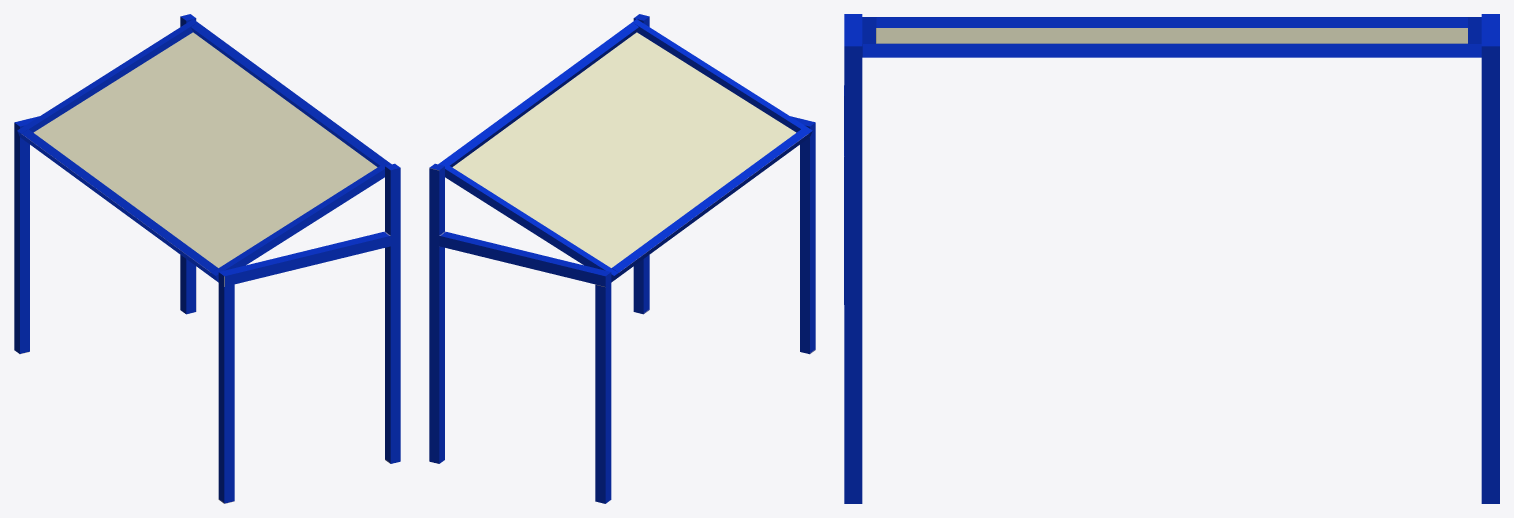
File: RAAL_op30.dae
3 views of the same model, side by side, from view 1: azimuth 30°, elevation 25°; view 2: azimuth 150°, elevation 25°; view 3: azimuth 270°, elevation 25° (orthographic). The views are drawn at different scales.
Parts seen in each view (by area): view 1: RAAL_op30; view 2: RAAL_op30; view 3: RAAL_op30.
Part boxes in pixels (x1,y1,x2,y2): RAAL_op30: (14, 14, 400, 503); RAAL_op30: (429, 14, 815, 503); RAAL_op30: (844, 14, 1499, 503).
Size of the model in its own units: 0.7088 by 1.44 by 1.11.
2 materials, 2 textured.
